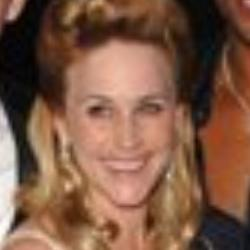face: (23, 3, 196, 222)
